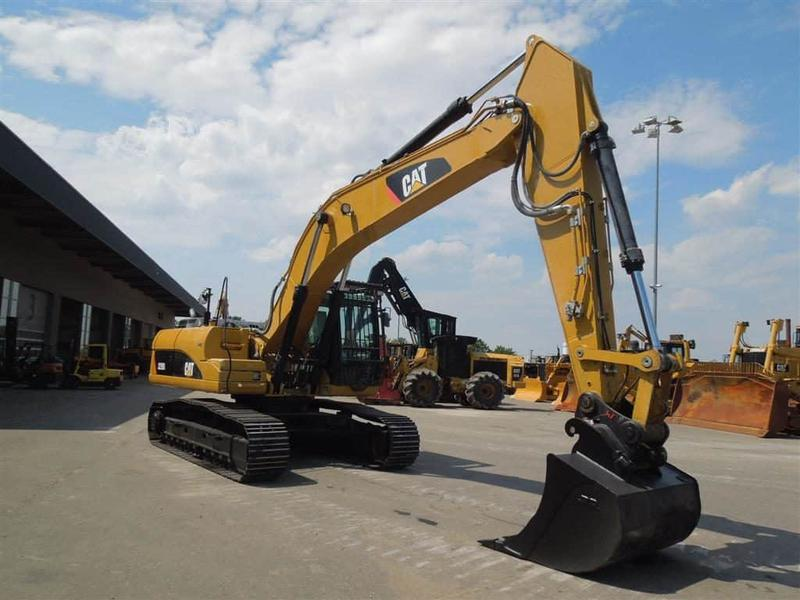shovel: (136, 31, 703, 585)
